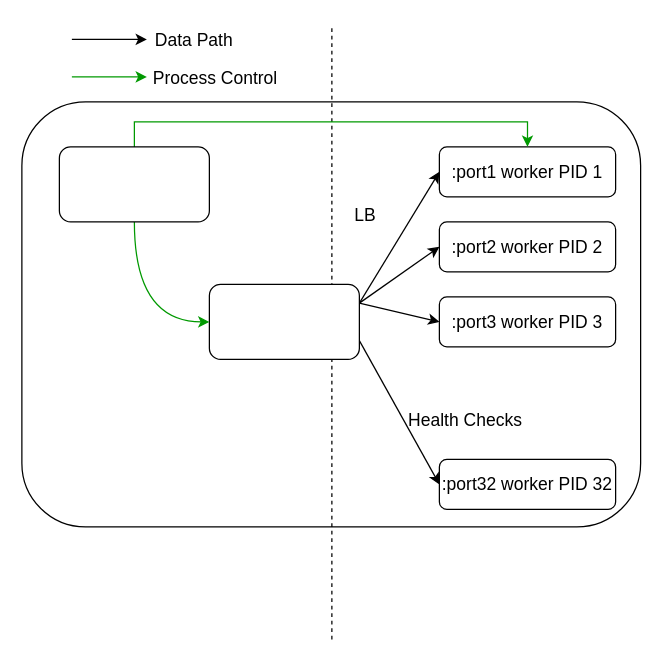
This 663x663 diagram has some shape labels left out. The shapes that lost their labels are listed below. From the top down, each one's centre as x and y in pixels, then its label:
At pixel 133 184: "Controller".
At pixel 283 321: "Proxy".
